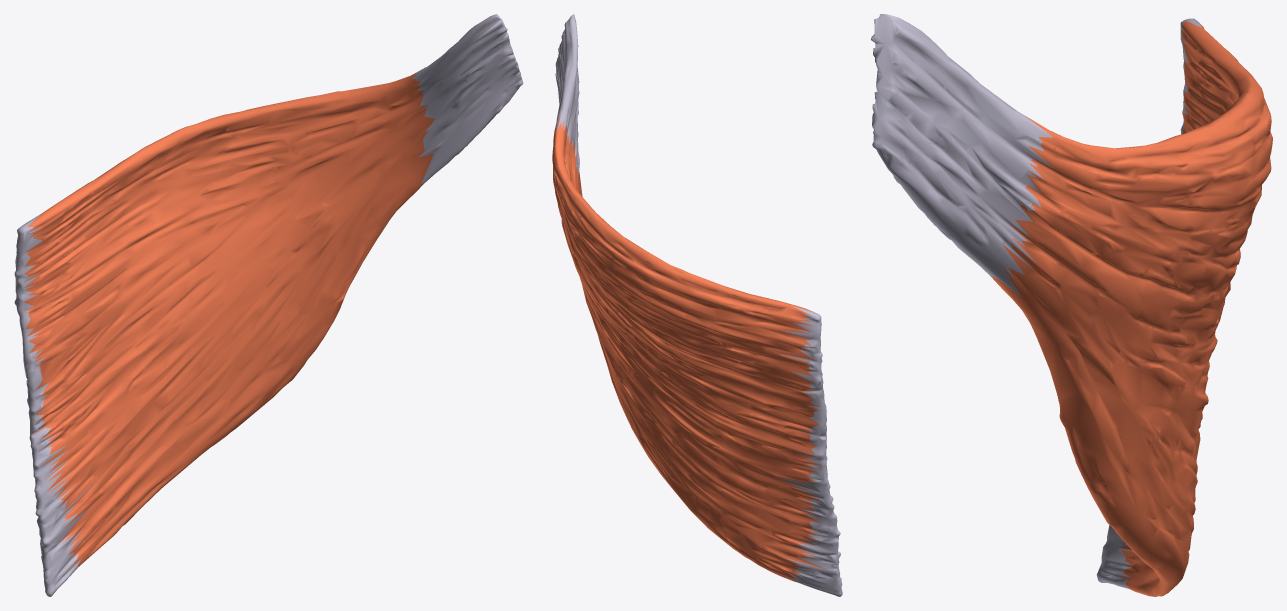
File: Latissimus_dorsi_left_001.glb
The picture shows the model from 3 angles, left to right: view 1: azimuth 30°, elevation 25°; view 2: azimuth 150°, elevation 25°; view 3: azimuth 270°, elevation 25°; orthographic projection. The views are drawn at different scales.
Visible parts, largest first — view 1: Latissimus_dorsi_muscle'.l_Generated_Mesh_From_X3D.400; view 2: Latissimus_dorsi_muscle'.l_Generated_Mesh_From_X3D.400; view 3: Latissimus_dorsi_muscle'.l_Generated_Mesh_From_X3D.400.
Part boxes in pixels (x1,y1,x2,y2): Latissimus_dorsi_muscle'.l_Generated_Mesh_From_X3D.400: (14,14,523,596); Latissimus_dorsi_muscle'.l_Generated_Mesh_From_X3D.400: (552,14,842,596); Latissimus_dorsi_muscle'.l_Generated_Mesh_From_X3D.400: (871,14,1272,596).
Bounding box in the file's own units: 0.1829 × 0.2296 × 0.0963.
